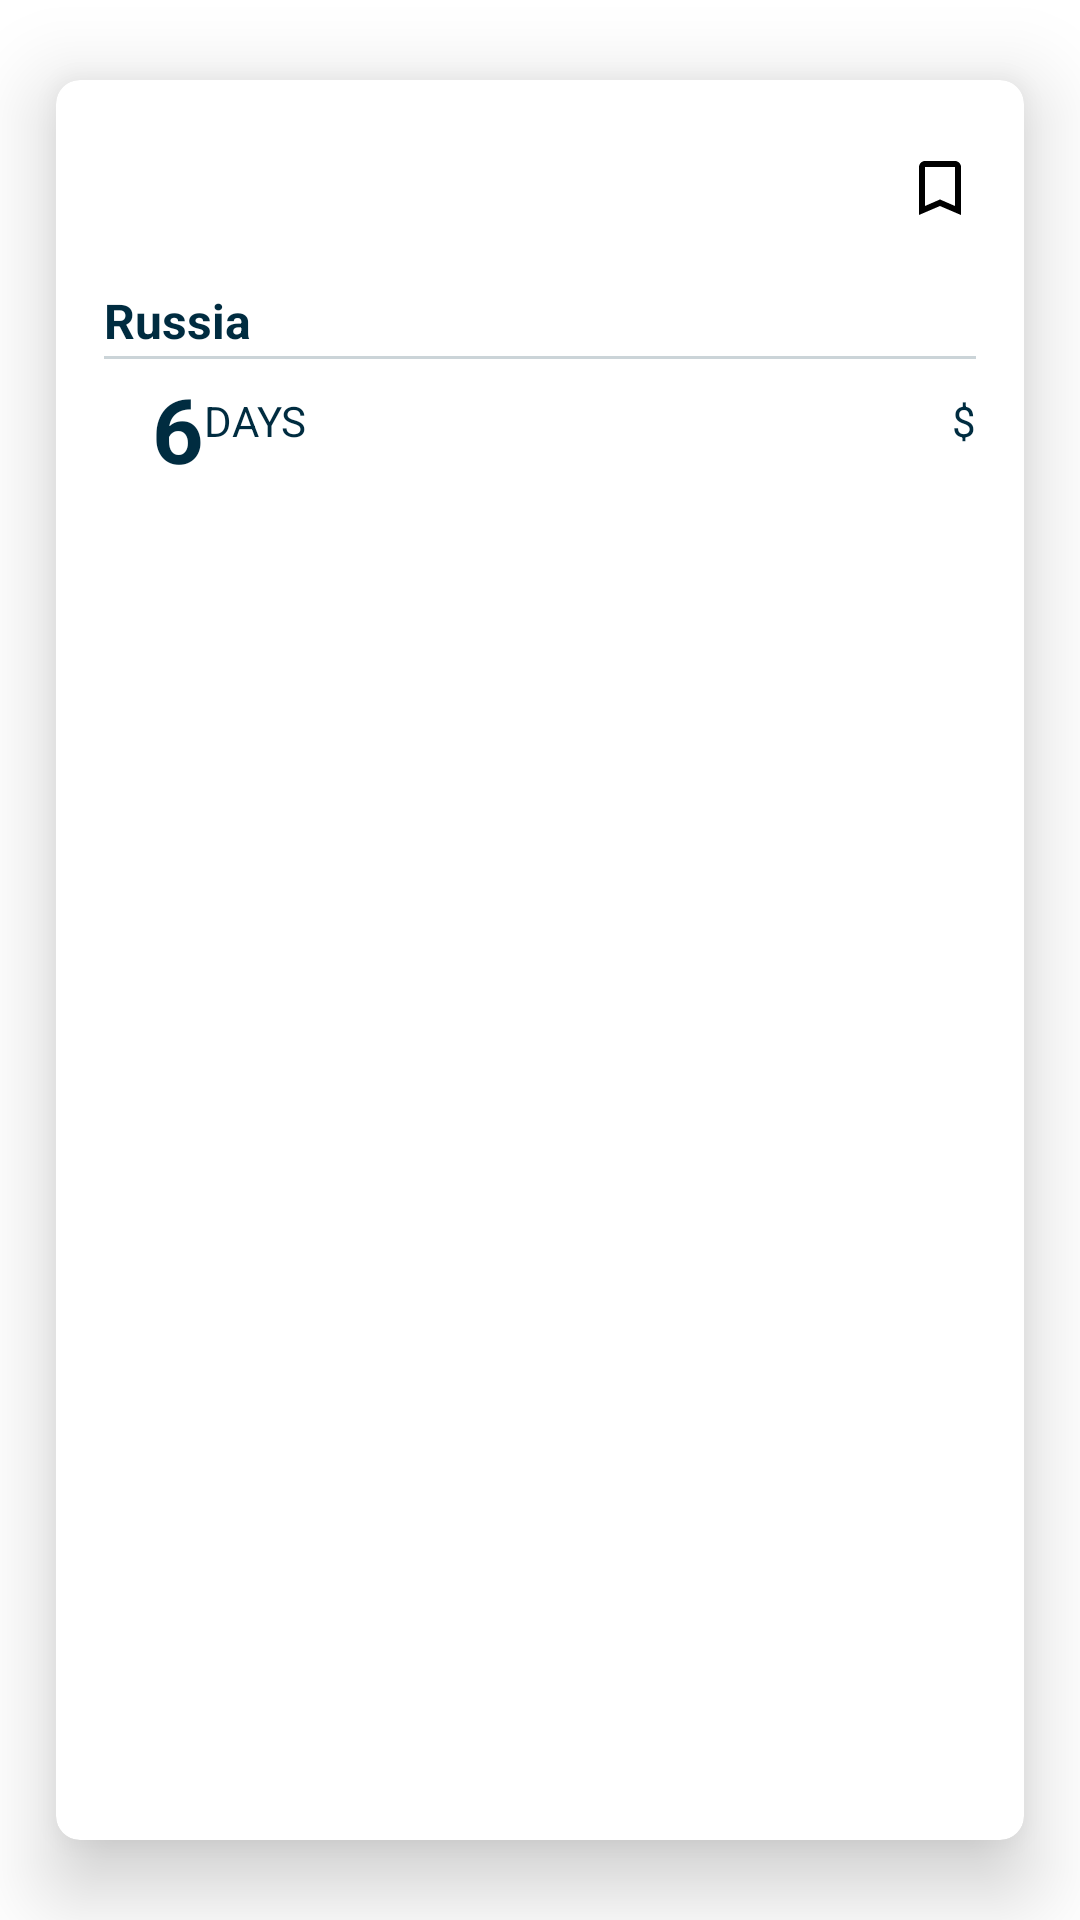

Icons on this 1080px x 1920px Android screen, each with its box as Rect(x1, y1, x2, y2):
bookmark border: Rect(919, 161, 961, 215)
